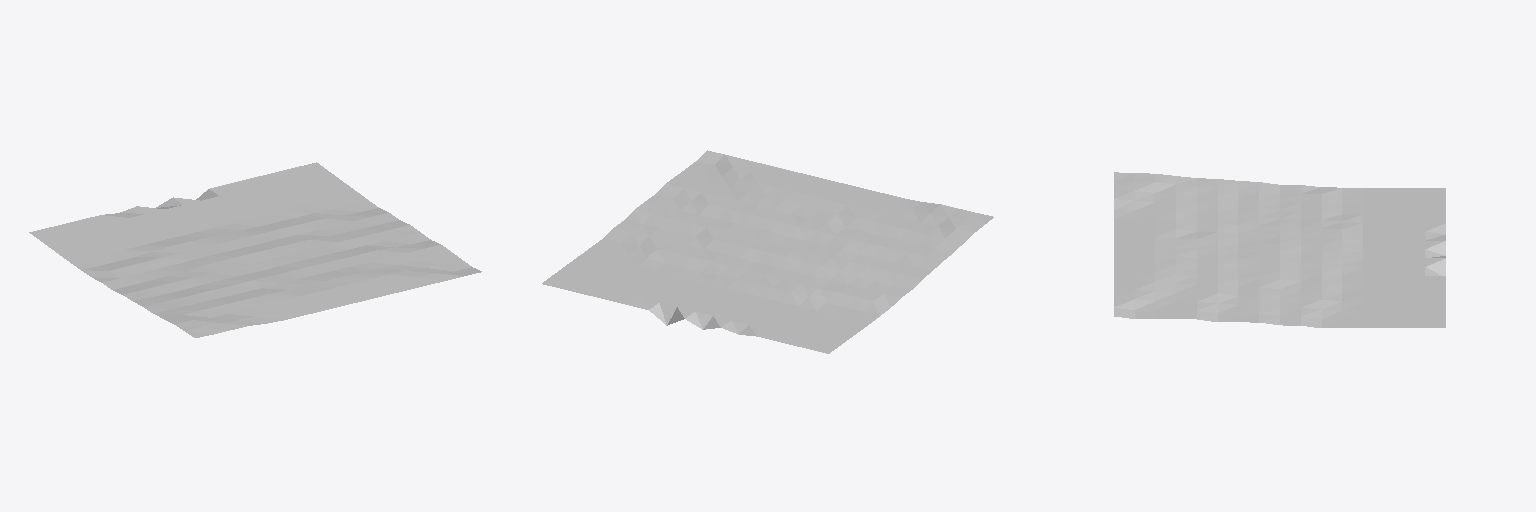
File: SM_Terrain_Tuto1Chunk0.0.obj
3 renders of one model, left to right at view 1: azimuth 30°, elevation 25°; view 2: azimuth 150°, elevation 25°; view 3: azimuth 270°, elevation 25°, orthographic.
Bounding box in the file's own units: 100 × 8.9 × 100.